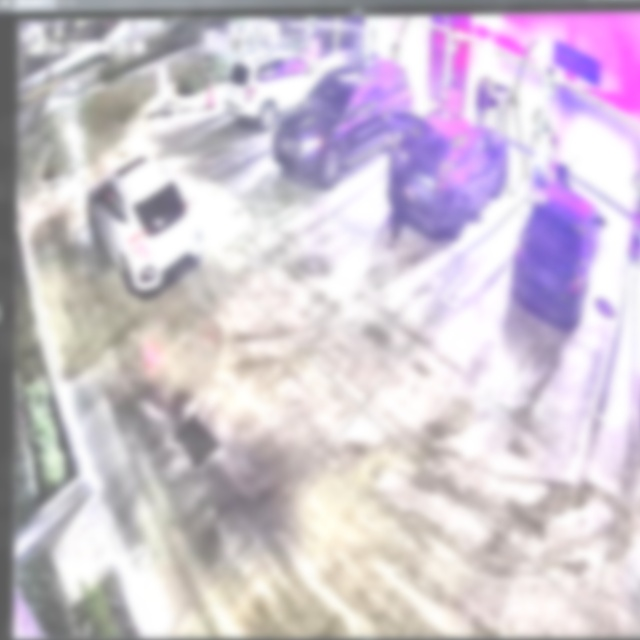Car: (271, 62, 413, 195), (387, 103, 508, 237), (92, 163, 204, 291)
